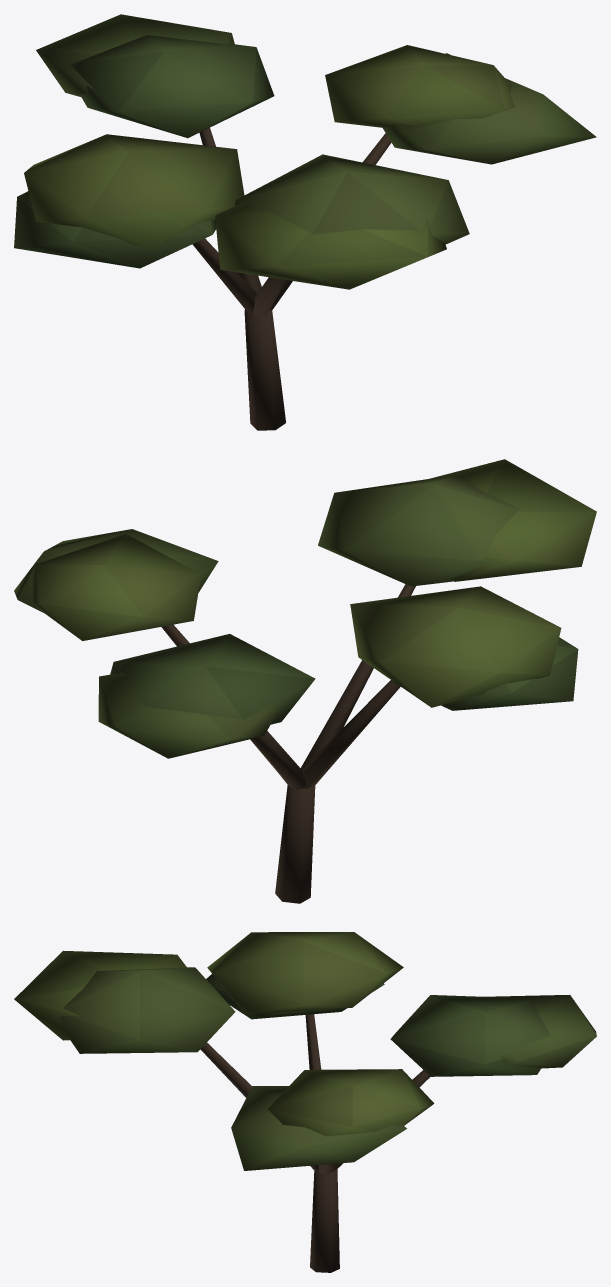
The model's file is env_acacia_b.glb.
3 renders of one model, top to bottom at view 1: azimuth 30°, elevation 25°; view 2: azimuth 150°, elevation 25°; view 3: azimuth 270°, elevation 25°, orthographic. The views are drawn at different scales.
Visible parts, largest first — view 1: env_acacia_b; view 2: env_acacia_b; view 3: env_acacia_b.
Boxes of the visible parts, x1=… form: env_acacia_b: x1=14, y1=14, x2=596, y2=430; env_acacia_b: x1=14, y1=459, x2=596, y2=903; env_acacia_b: x1=14, y1=932, x2=596, y2=1272.
Bounding box in the file's own units: 9.09 × 5.41 × 10.04.
